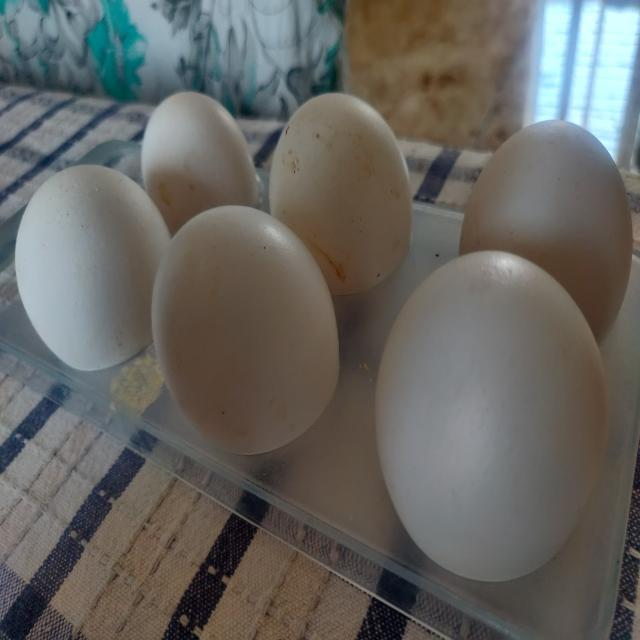Egg: (374, 248, 610, 586), (149, 205, 342, 458), (458, 121, 636, 343), (12, 165, 173, 376), (263, 93, 413, 297), (138, 92, 264, 238)
